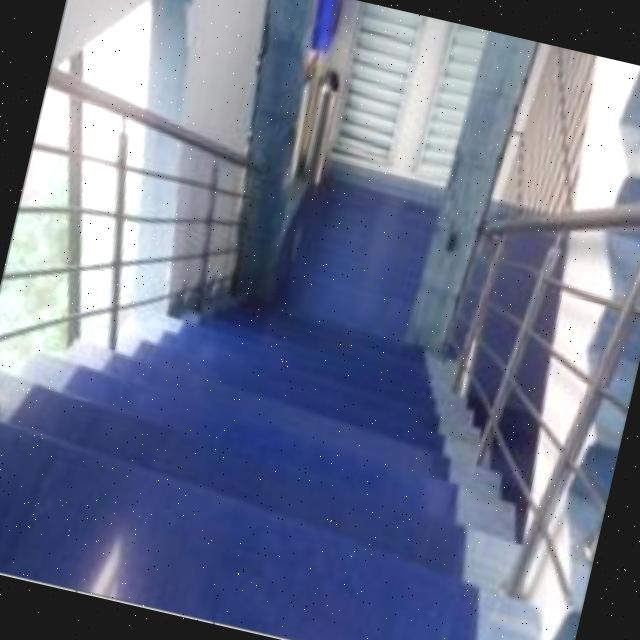stairs: (0, 240, 550, 640)
